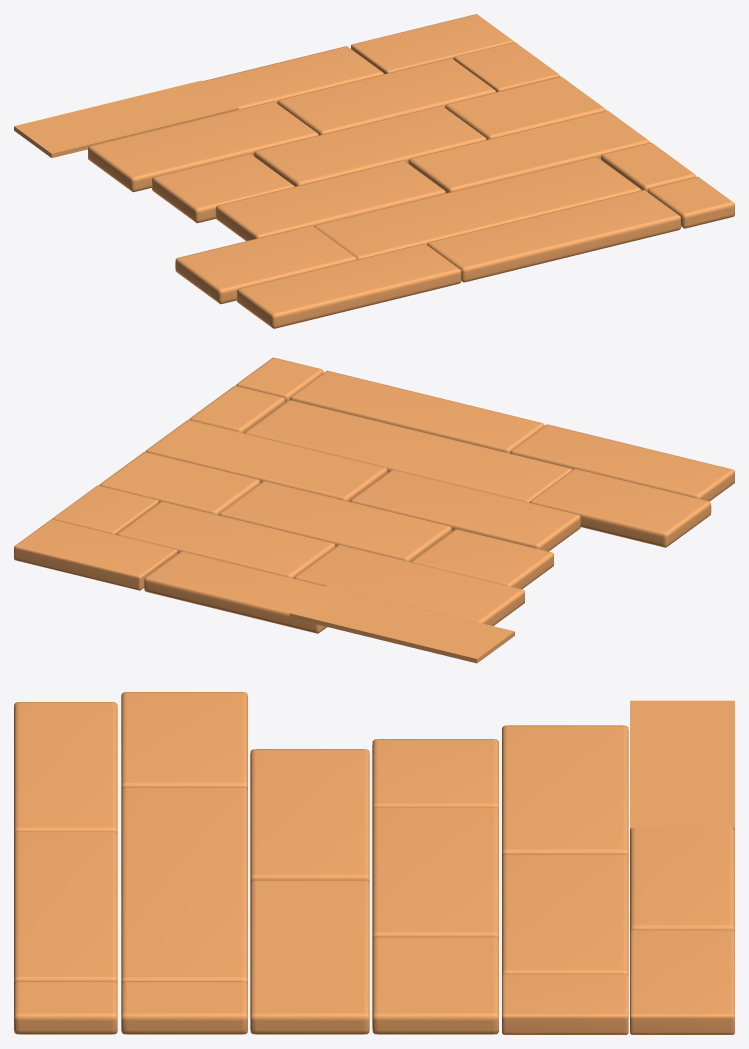
File: Farmhouse_ROOM_planks_v01.glb
3 views of the same model, one above another, from view 1: azimuth 30°, elevation 25°; view 2: azimuth 150°, elevation 25°; view 3: azimuth 270°, elevation 25° (orthographic). The views are drawn at different scales.
Parts seen in each view (by area): view 1: Farmhouse_ROOM_planks_v01; view 2: Farmhouse_ROOM_planks_v01; view 3: Farmhouse_ROOM_planks_v01.
Part boxes in pixels (x1,y1,x2,y2): Farmhouse_ROOM_planks_v01: (14,14,734,328); Farmhouse_ROOM_planks_v01: (14,357,734,663); Farmhouse_ROOM_planks_v01: (14,692,734,1034).
Bounding box in the file's own units: 3.77 × 0.1199 × 3.54.
